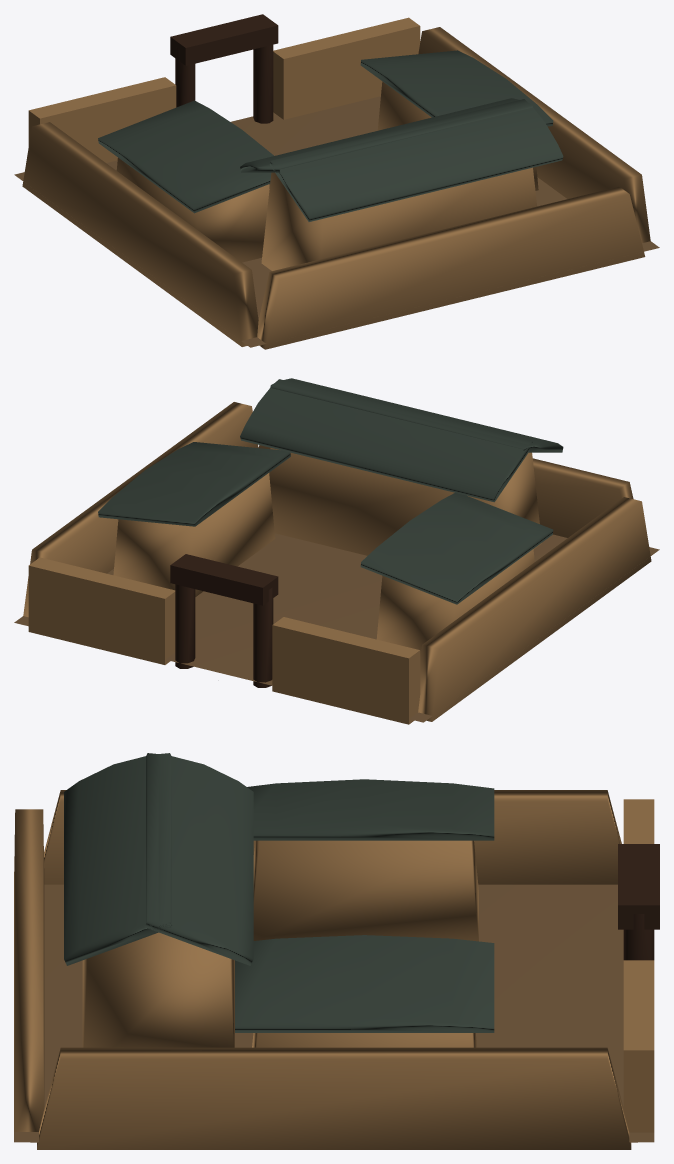
File: R24_HAN_RES_COMMON_SMALL_PRODUCTION_A.fbx
3 renders of one model, top to bottom at view 1: azimuth 30°, elevation 25°; view 2: azimuth 150°, elevation 25°; view 3: azimuth 270°, elevation 25°, orthographic. The views are drawn at different scales.
Parts seen in each view (by area): view 1: wall_north, wall_east, hall_roof_back, hall_body, wing_east_roof, wall_south_west, wall_west, wing_west_roof, yard, wall_south_east, wing_east, gate_lintel (+4 smaller); view 2: wall_east, hall_roof_front, yard, hall_body, wing_east_roof, wall_south_east, wall_south_west, wing_west_roof, wing_west, wall_west, wing_east, wall_north (+4 smaller); view 3: wall_west, yard, wing_west_roof, wing_east, hall_roof_back, hall_roof_front, hall_body, wing_east_roof, wall_east, wall_north, wall_south_west, gate_lintel (+3 smaller).
Part boxes in pixels (<box>): wall_north: <box>257,186,645,349</box>; wall_east: <box>22,122,258,346</box>; hall_roof_back: <box>269,99,563,221</box>; hall_body: <box>261,167,537,270</box>; wing_east_roof: <box>98,100,273,213</box>; wall_south_west: <box>273,17,420,119</box>; wall_west: <box>418,27,650,242</box>; wing_west_roof: <box>360,50,553,126</box>; yard: <box>14,96,659,347</box>; wall_south_east: <box>28,77,176,162</box>; wing_east: <box>116,157,269,262</box>; gate_lintel: <box>170,14,278,65</box>; wall_east: <box>418,497,651,721</box>; hall_roof_front: <box>240,379,532,502</box>; yard: <box>14,533,659,722</box>; hall_body: <box>269,448,541,555</box>; wing_east_roof: <box>360,493,553,604</box>; wall_south_east: <box>272,617,420,724</box>; wall_south_west: <box>28,557,175,664</box>; wing_west_roof: <box>98,442,290,526</box>; wing_west: <box>113,473,275,596</box>; wall_west: <box>23,402,258,617</box>; wing_east: <box>376,549,534,656</box>; wall_north: <box>258,445,633,537</box>; wall_west: <box>37,1047,631,1149</box>; yard: <box>14,872,654,1142</box>; wing_west_roof: <box>235,935,494,1032</box>; wing_east: <box>253,840,478,941</box>; hall_roof_back: <box>64,753,171,965</box>; hall_roof_front: <box>145,753,253,965</box>; hall_body: <box>82,932,234,1047</box>; wing_east_roof: <box>247,779,494,840</box>; wall_east: <box>44,790,621,884</box>; wall_north: <box>14,809,44,1131</box>; wall_south_west: <box>623,960,654,1132</box>; gate_lintel: <box>618,844,659,929</box>.
Bounding box in the file's own units: 84 × 26.24 × 84.75.
